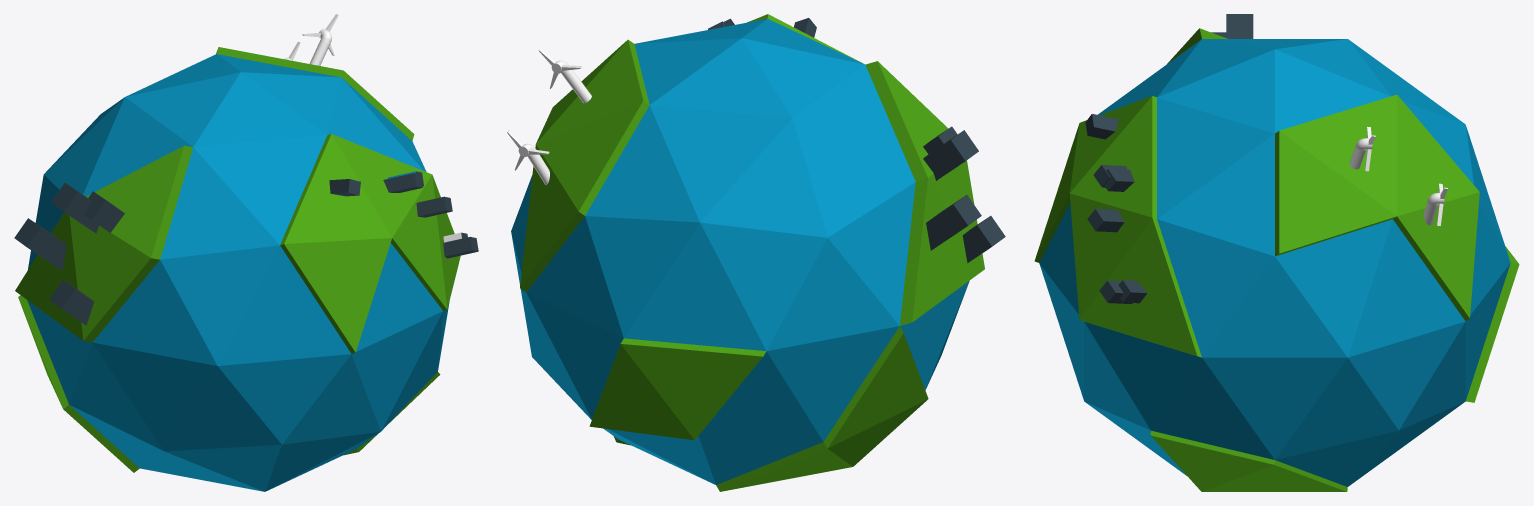
File: ChrysalisPrime.glb
3 renders of one model, left to right at view 1: azimuth 30°, elevation 25°; view 2: azimuth 150°, elevation 25°; view 3: azimuth 270°, elevation 25°, orthographic. The views are drawn at different scales.
Parts seen in each view (by area): view 1: Icosphere; view 2: Icosphere; view 3: Icosphere.
Boxes of the visible parts, x1=… form: Icosphere: x1=14, y1=14, x2=478, y2=491; Icosphere: x1=507, y1=14, x2=1005, y2=491; Icosphere: x1=1034, y1=14, x2=1519, y2=491.
Bounding box in the file's own units: 2.55 × 2.44 × 2.49.
Materials: 1 (1 with a texture image).
